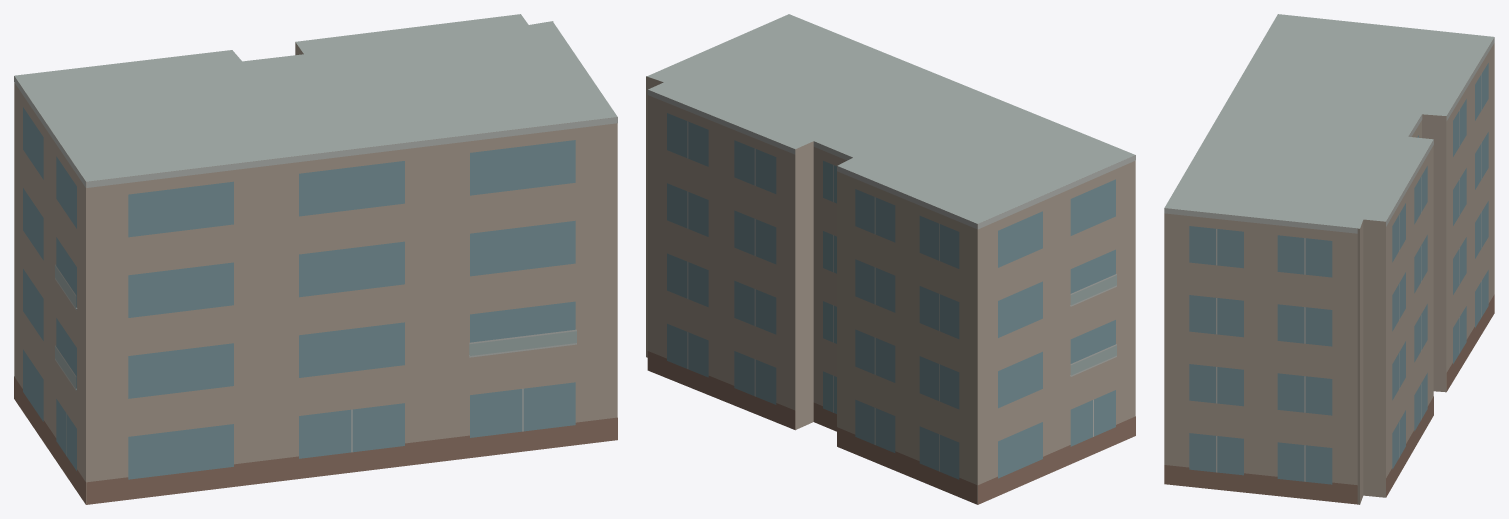
Rendered from survey-upis-32822516.glb.
3 views of the same model, side by side, from view 1: azimuth 30°, elevation 25°; view 2: azimuth 150°, elevation 25°; view 3: azimuth 270°, elevation 25° (orthographic). The views are drawn at different scales.
Parts seen in each view (by area): view 1: survey-upis-32822516.tmp; view 2: survey-upis-32822516.tmp; view 3: survey-upis-32822516.tmp.
Part boxes in pixels (bbox=[...]): survey-upis-32822516.tmp: bbox=[14, 14, 617, 504]; survey-upis-32822516.tmp: bbox=[646, 14, 1135, 504]; survey-upis-32822516.tmp: bbox=[1164, 14, 1494, 504].
Size of the model in its own units: 20.85 by 12.49 by 13.55.
